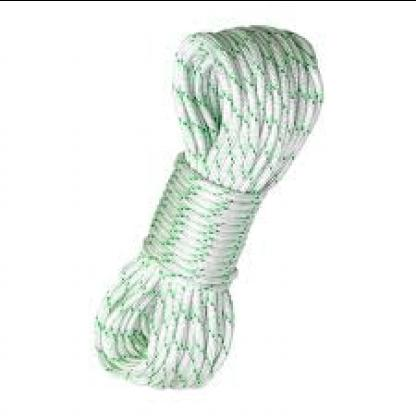Rope: (84, 18, 328, 395)
